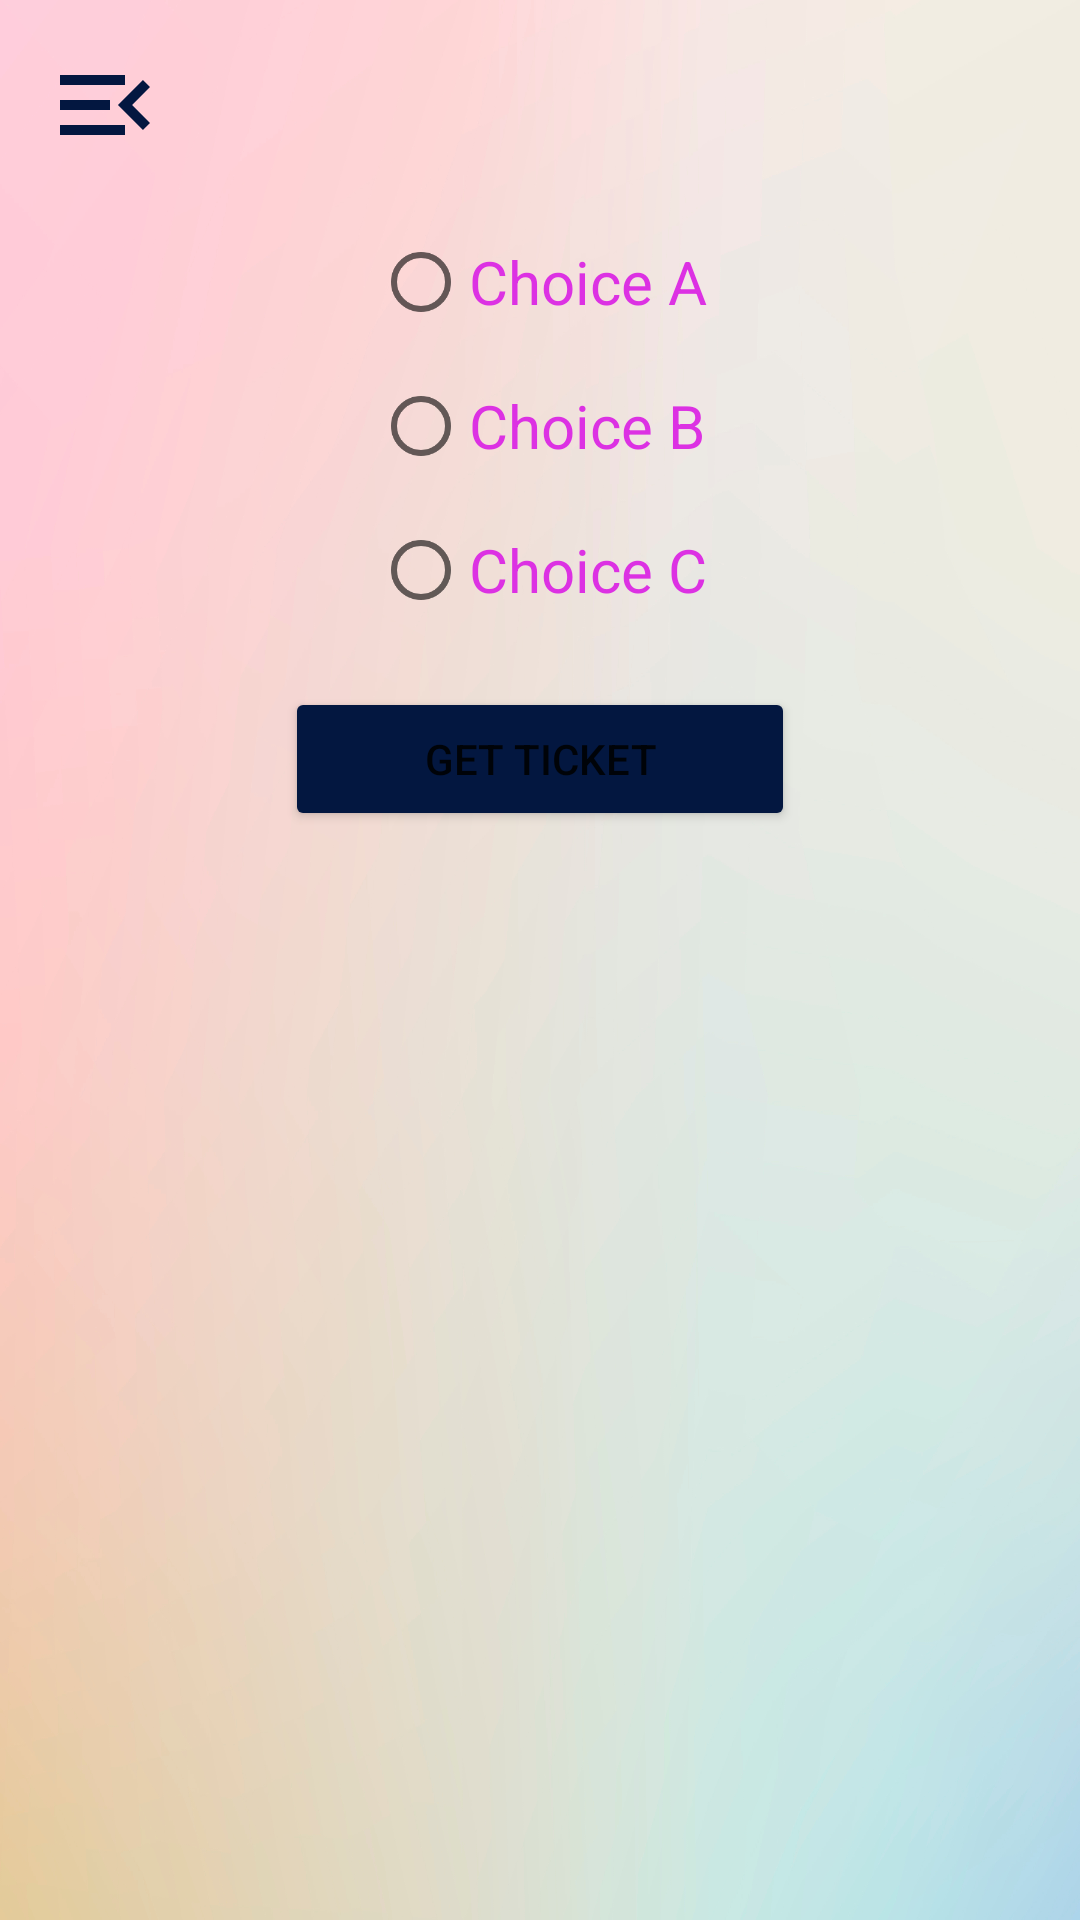

Named icons in this screenshot (1080*1920) and their centers, (x,y):
menu: (105,105)
